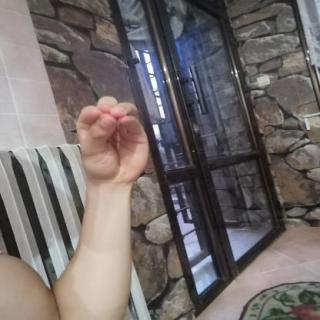HA: (62, 87, 160, 194)
